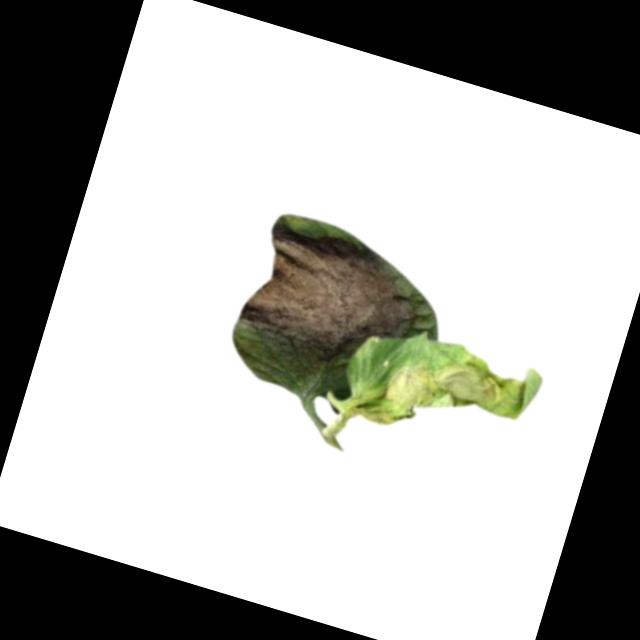Late_blight: (231, 214, 432, 384), (352, 318, 547, 467)
